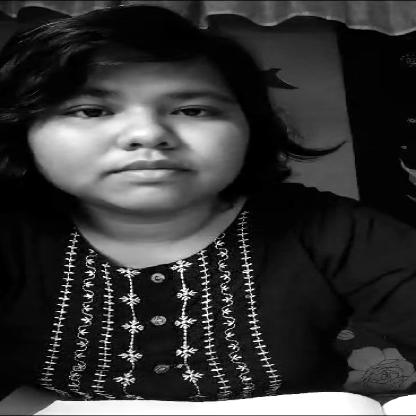Normal: (31, 23, 250, 208)
